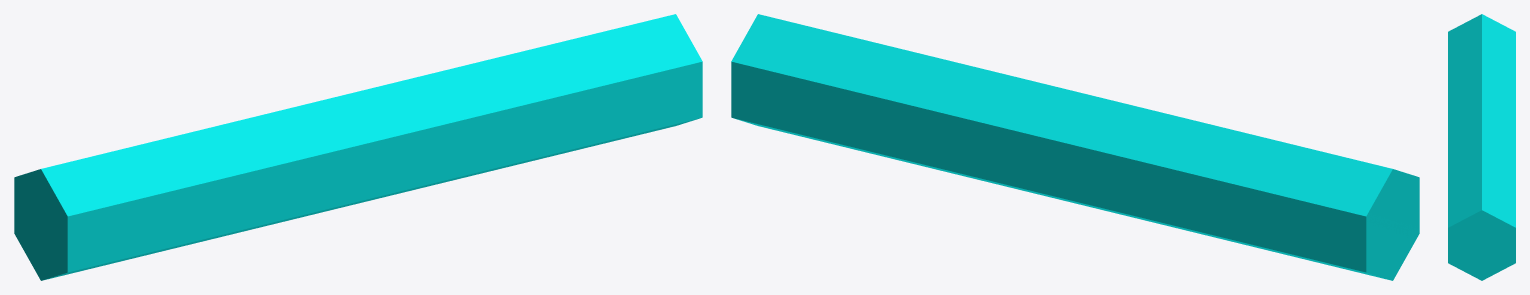
The model's file is SM_Bld_Shrine_02_Striker_01_Collision.fbx.
3 views of the same model, side by side, from view 1: azimuth 30°, elevation 25°; view 2: azimuth 150°, elevation 25°; view 3: azimuth 270°, elevation 25° (orthographic). The views are drawn at different scales.
Visible parts, largest first — view 1: SM_Bld_Shrine_02_Striker_01_Collision; view 2: SM_Bld_Shrine_02_Striker_01_Collision; view 3: SM_Bld_Shrine_02_Striker_01_Collision.
Boxes of the visible parts, x1=… form: SM_Bld_Shrine_02_Striker_01_Collision: x1=14, y1=14, x2=702, y2=280; SM_Bld_Shrine_02_Striker_01_Collision: x1=731, y1=14, x2=1419, y2=280; SM_Bld_Shrine_02_Striker_01_Collision: x1=1448, y1=14, x2=1515, y2=280.
Size of the model in its own units: 167 by 28.18 by 24.4.
